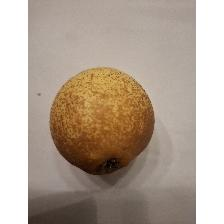Birne: (46, 64, 158, 178)
